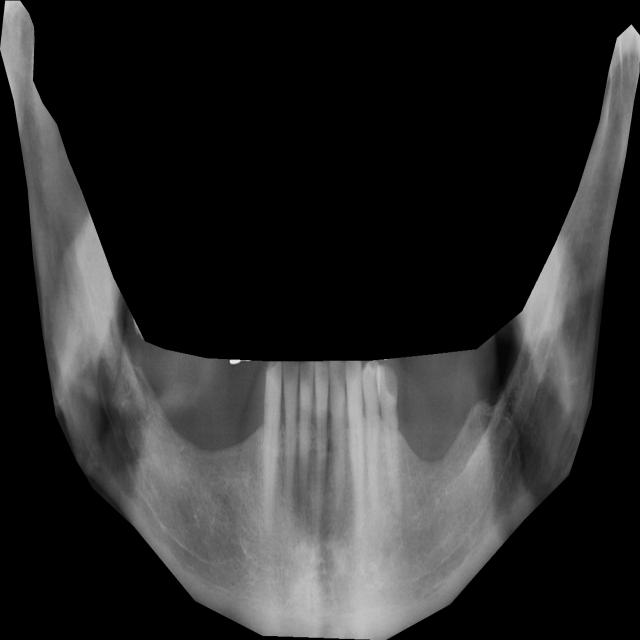mandibula: (0, 1, 640, 640)
